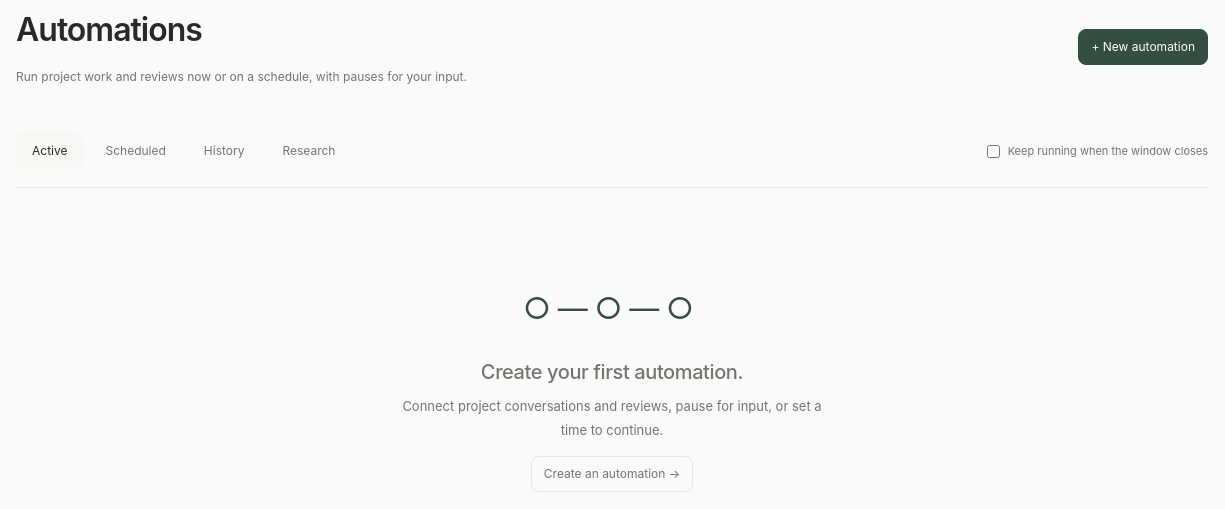
Scenario: keeps recurring schedules separate from active occurrences
Expected: the heading "Create your first automation." is shown, 481,360 -> 743,384
Click the tab "Scheduled": (136, 151) 90,133 -> 182,169
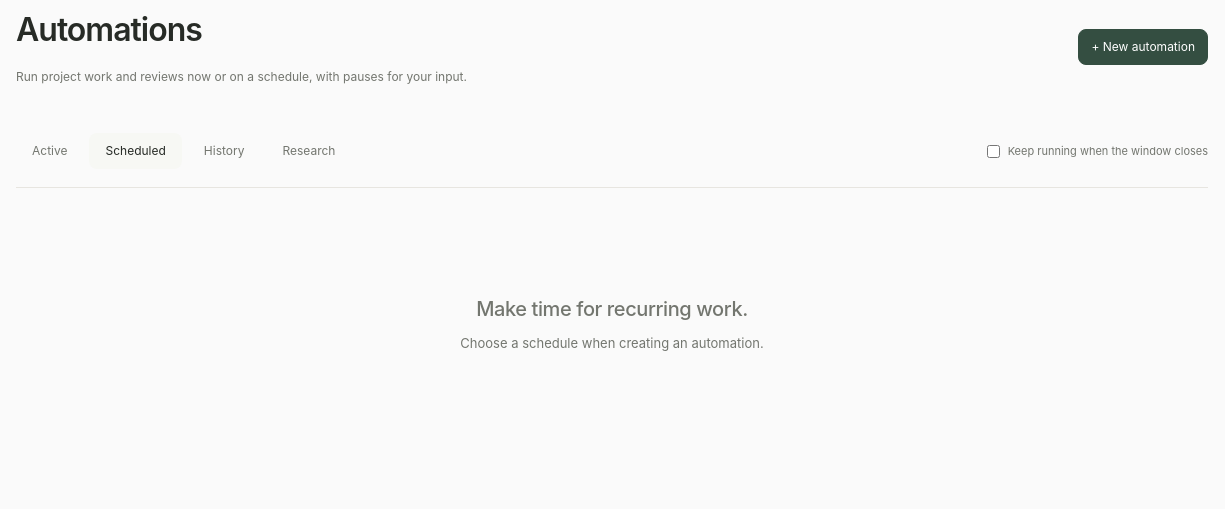
Now the heading "Make time for recurring work." is shown, box 476,297 -> 748,321
